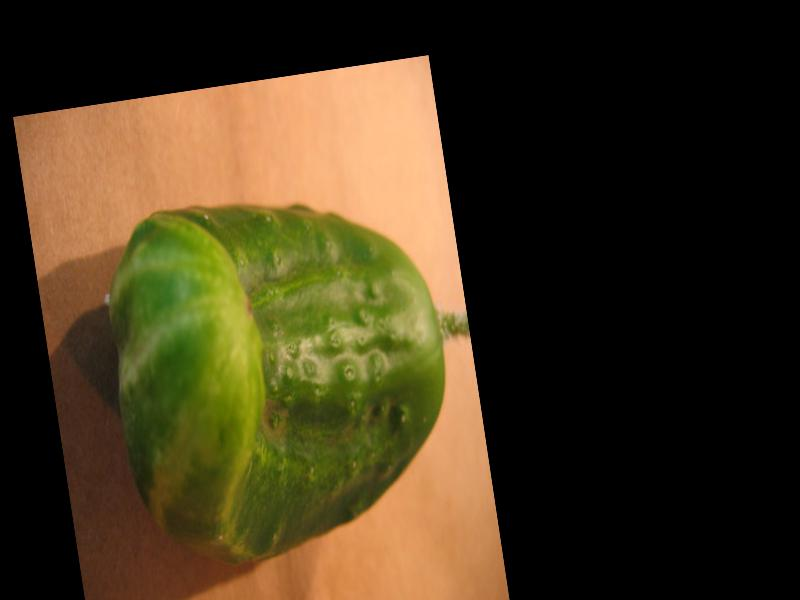Cucumber: (92, 169, 470, 574)
